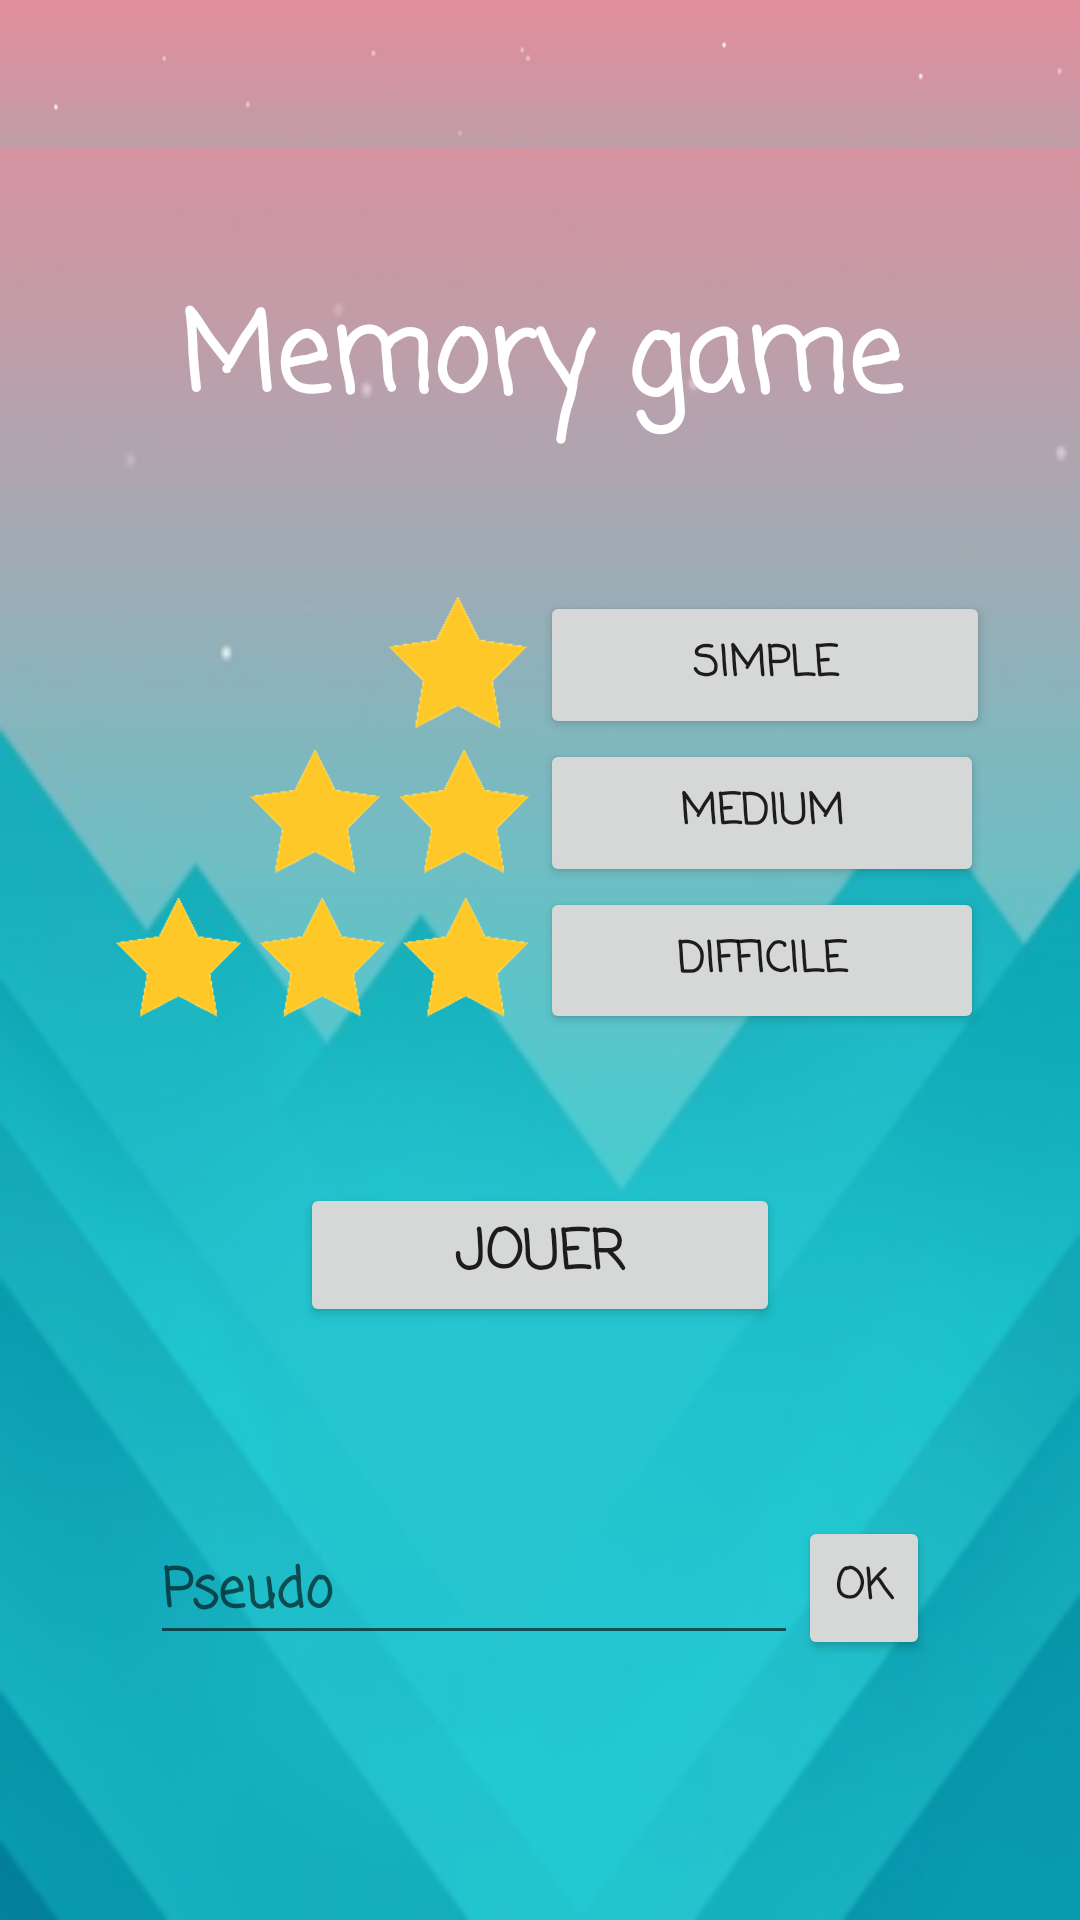

Where to tap for icons on this 1080 x 1920 app screen, as point (x, y):
easy: point (460, 660)
